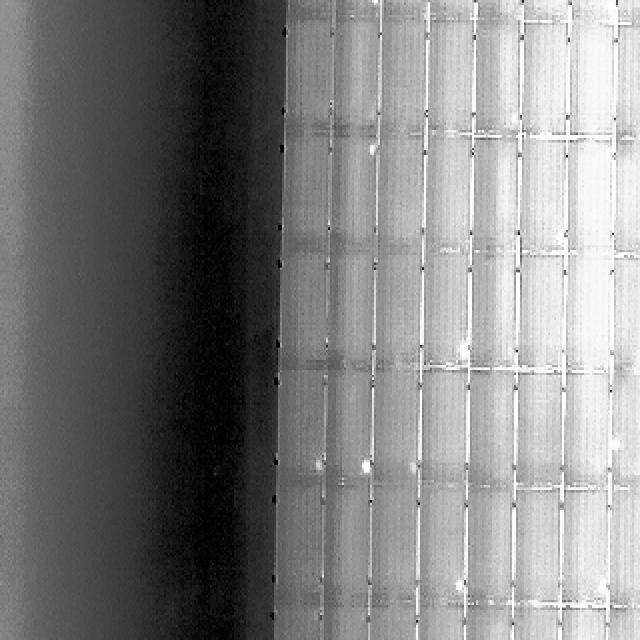Hotspots: (304, 452, 329, 478), (502, 106, 524, 130), (550, 223, 568, 250), (405, 452, 423, 479), (608, 432, 626, 458), (352, 456, 373, 478), (446, 572, 464, 597), (598, 0, 620, 20), (463, 337, 478, 362), (592, 576, 607, 600), (363, 138, 378, 160), (322, 337, 334, 359), (366, 0, 382, 12)
PV-modules: (318, 480, 368, 603), (420, 255, 471, 374), (519, 257, 569, 376), (464, 488, 514, 607), (276, 367, 326, 486), (464, 257, 514, 375), (419, 374, 469, 492), (371, 486, 420, 606), (418, 481, 466, 603), (281, 132, 329, 254), (521, 138, 571, 255), (422, 138, 472, 255), (563, 258, 612, 377), (325, 250, 375, 366), (322, 369, 372, 485), (372, 368, 421, 486), (558, 491, 607, 608), (468, 137, 516, 256), (516, 484, 564, 603), (566, 24, 616, 138), (330, 136, 378, 254), (273, 486, 321, 604), (523, 22, 572, 137), (474, 21, 523, 136), (560, 374, 609, 489), (332, 19, 381, 134), (378, 256, 426, 373), (377, 19, 425, 136), (468, 370, 516, 487), (516, 372, 564, 488), (426, 20, 474, 135), (380, 137, 427, 254), (566, 140, 613, 256), (278, 252, 326, 364), (285, 21, 331, 130), (604, 485, 640, 603), (606, 258, 640, 378), (608, 372, 640, 488), (608, 140, 640, 255), (614, 22, 640, 138), (366, 604, 420, 640), (273, 603, 321, 640), (414, 604, 463, 640), (460, 607, 512, 640), (318, 608, 370, 640), (513, 607, 563, 640), (558, 608, 606, 640), (606, 607, 640, 640), (426, 0, 474, 22), (474, 0, 524, 20), (288, 0, 338, 20), (524, 0, 572, 20), (570, 0, 616, 20), (334, 0, 380, 20), (378, 0, 426, 18), (616, 0, 640, 28)
